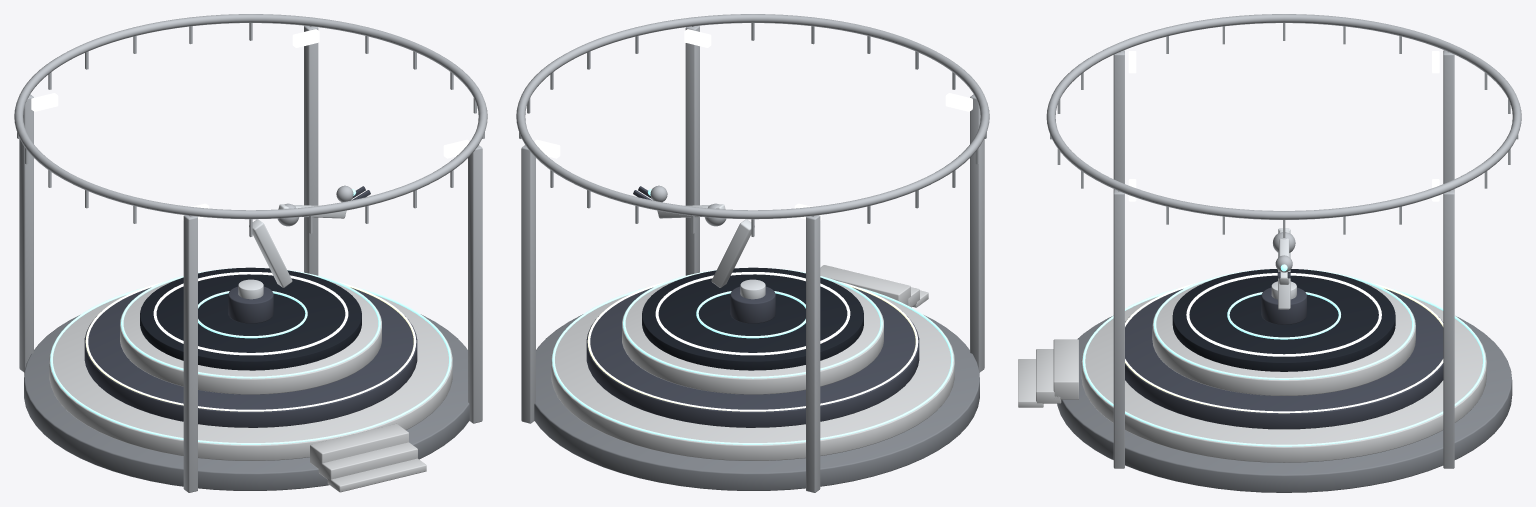
File: arena.glb
The picture shows the model from 3 angles, left to right: view 1: azimuth 30°, elevation 25°; view 2: azimuth 150°, elevation 25°; view 3: azimuth 270°, elevation 25°; orthographic projection.
Visible parts, largest first — view 1: arena_HullWarm, arena_Steel, arena_Graphite, arena_DarkPanel, arena_Concrete, arena_Cyan, arena_Hull, arena_Amber, arena_Ice, arena_WhiteLight; view 2: arena_HullWarm, arena_Steel, arena_Concrete, arena_Graphite, arena_DarkPanel, arena_Cyan, arena_Hull, arena_Amber, arena_Ice, arena_WhiteLight; view 3: arena_HullWarm, arena_Steel, arena_Concrete, arena_Graphite, arena_DarkPanel, arena_Cyan, arena_Ice, arena_Amber, arena_Hull, arena_WhiteLight.
Part boxes in pixels (left/top/right/bottom): arena_HullWarm: left=49, top=280, right=452, bottom=492; arena_Steel: left=14, top=14, right=487, bottom=492; arena_Graphite: left=84, top=186, right=417, bottom=427; arena_DarkPanel: left=140, top=267, right=361, bottom=370; arena_Concrete: left=24, top=314, right=469, bottom=490; arena_Cyan: left=50, top=189, right=451, bottom=444; arena_Hull: left=238, top=204, right=346, bottom=299; arena_Amber: left=85, top=281, right=416, bottom=411; arena_Ice: left=153, top=272, right=348, bottom=355; arena_WhiteLight: left=31, top=29, right=469, bottom=220; arena_HullWarm: left=551, top=265, right=954, bottom=460; arena_Steel: left=516, top=14, right=989, bottom=492; arena_Concrete: left=534, top=314, right=979, bottom=490; arena_Graphite: left=586, top=186, right=919, bottom=427; arena_DarkPanel: left=642, top=267, right=863, bottom=370; arena_Cyan: left=552, top=189, right=953, bottom=444; arena_Hull: left=657, top=204, right=765, bottom=299; arena_Amber: left=587, top=281, right=918, bottom=411; arena_Ice: left=655, top=272, right=850, bottom=355; arena_WhiteLight: left=534, top=29, right=972, bottom=220; arena_HullWarm: left=1018, top=281, right=1486, bottom=462; arena_Steel: left=1046, top=14, right=1521, bottom=468; arena_Concrete: left=1057, top=316, right=1512, bottom=492; arena_Graphite: left=1125, top=272, right=1443, bottom=429; arena_DarkPanel: left=1172, top=269, right=1395, bottom=371; arena_Cyan: left=1082, top=264, right=1485, bottom=446; arena_Ice: left=1186, top=273, right=1381, bottom=356; arena_Amber: left=1125, top=282, right=1443, bottom=413; arena_Hull: left=1271, top=228, right=1296, bottom=309; arena_WhiteLight: left=1128, top=51, right=1439, bottom=201.
Bounding box in the file's own units: 18.76 × 12.37 × 19.88.
